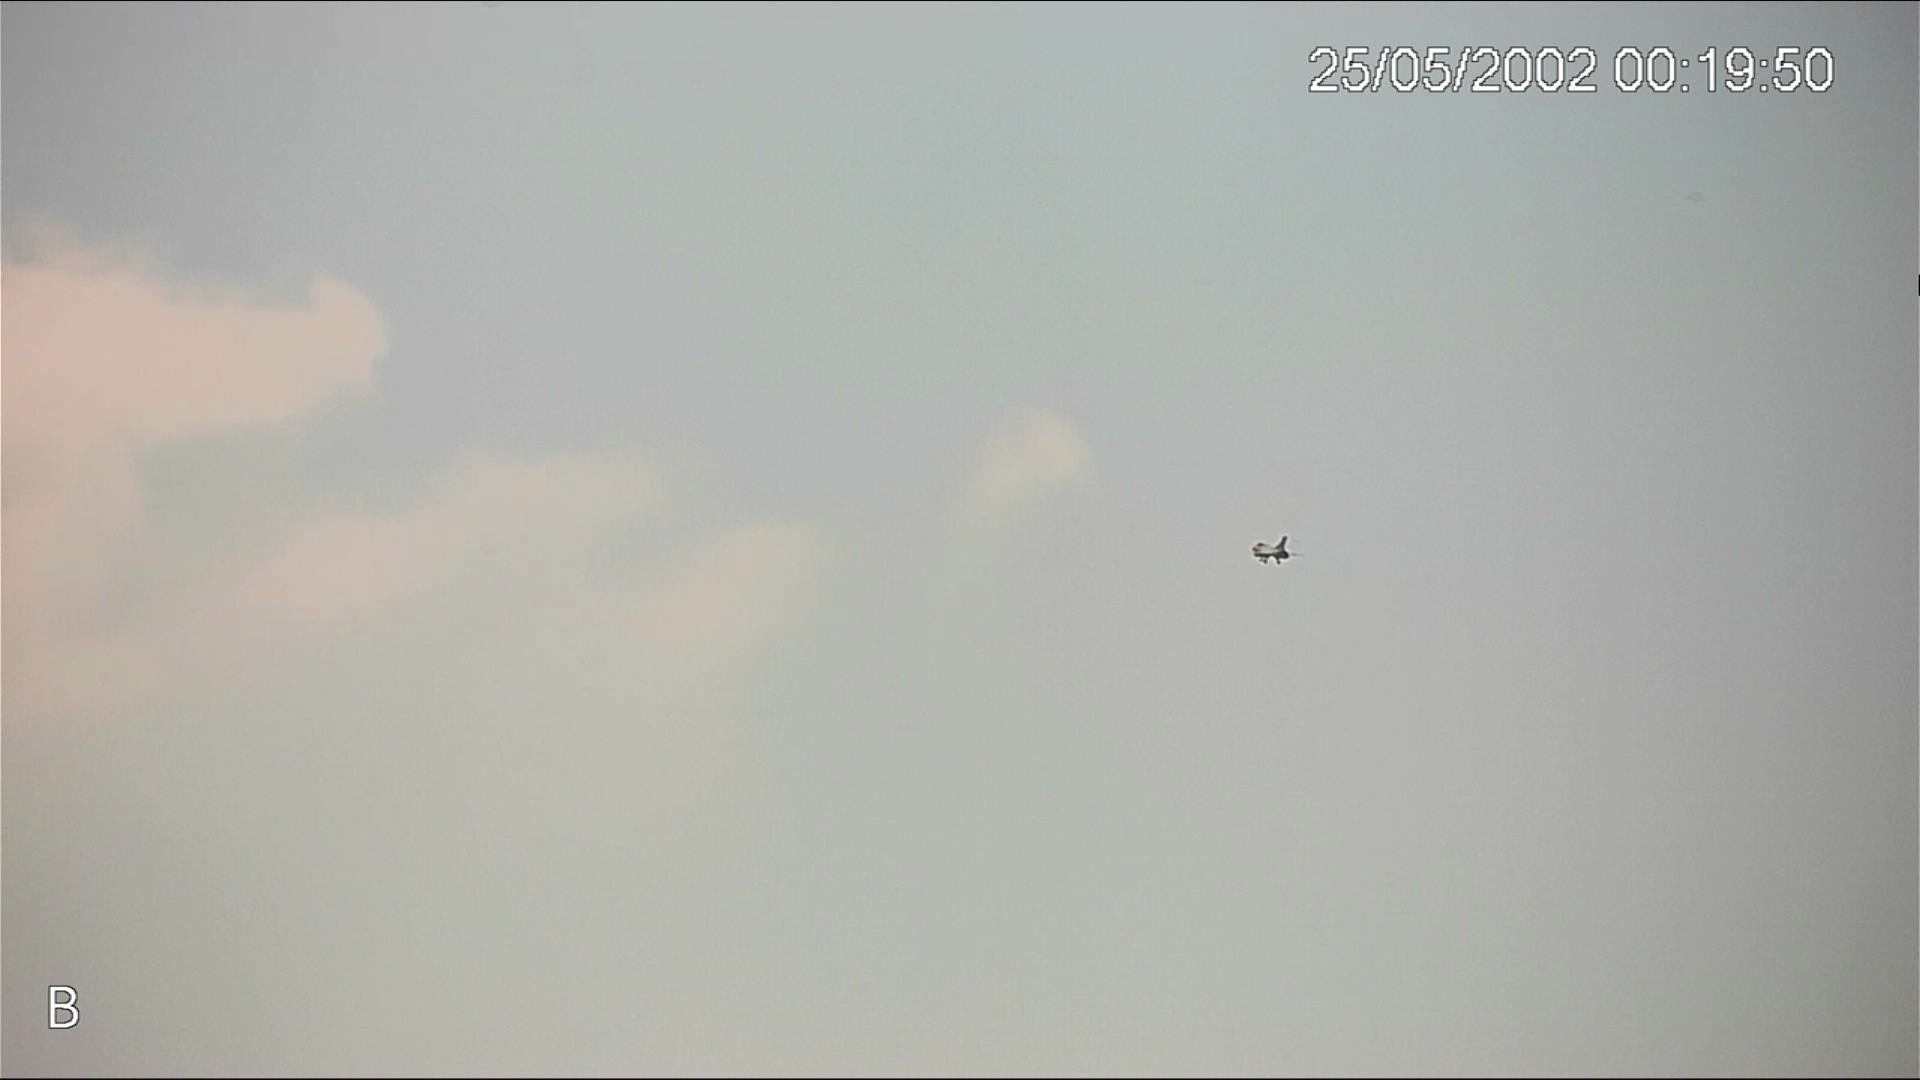SU_30: (1237, 534, 1302, 567)
